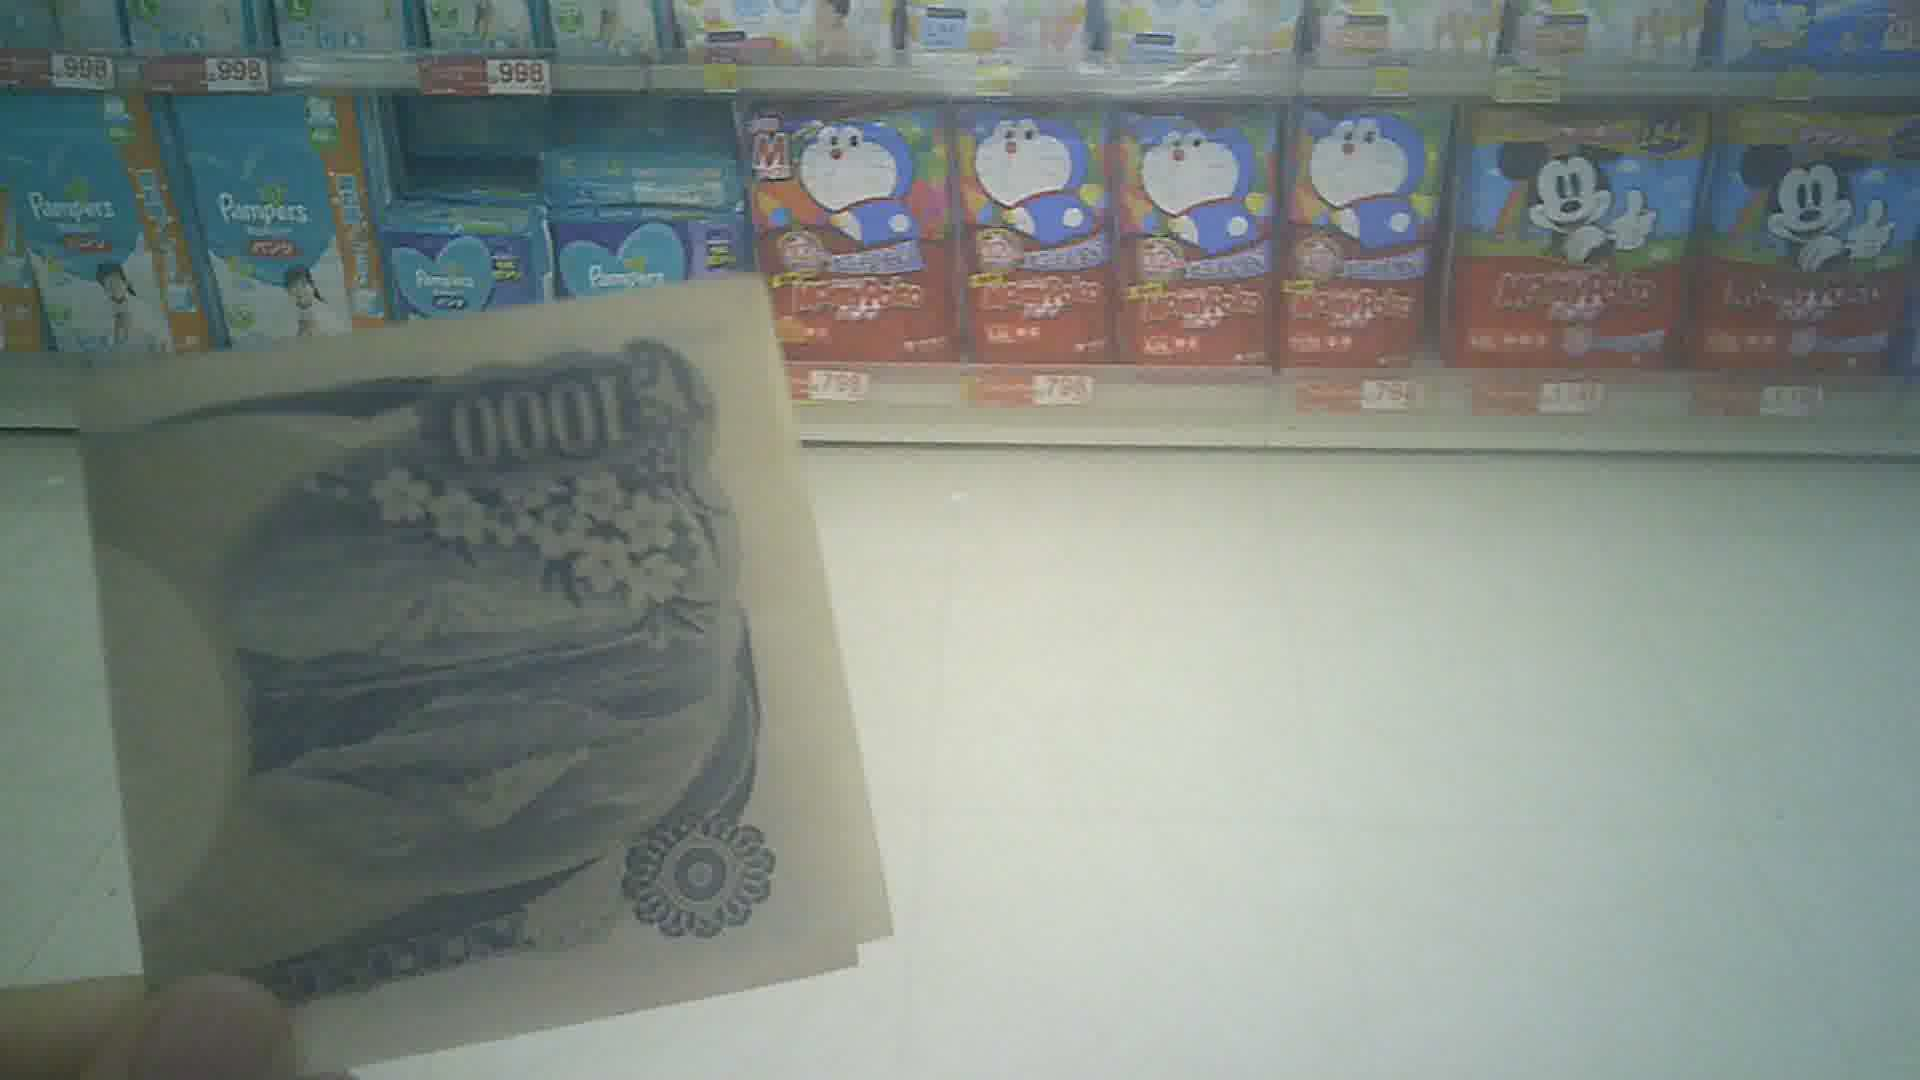1,000 Yen: (61, 284, 897, 1007)
